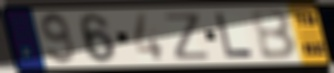4: (134, 12, 166, 64)
6: (77, 11, 119, 65)
9: (40, 11, 79, 67)
B: (248, 8, 300, 61)
L: (214, 11, 256, 60)
Z: (162, 11, 212, 61)
